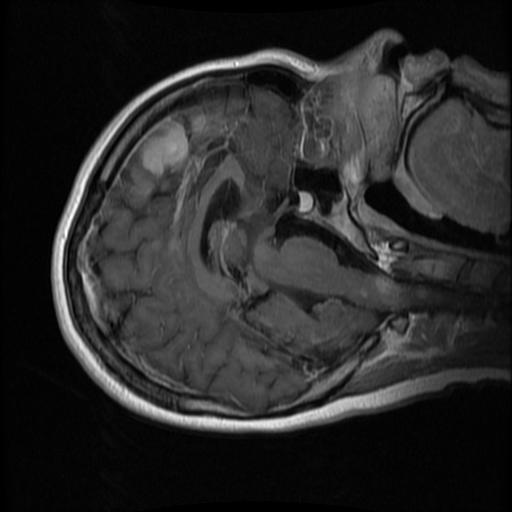meningioma: (138, 119, 189, 174)
